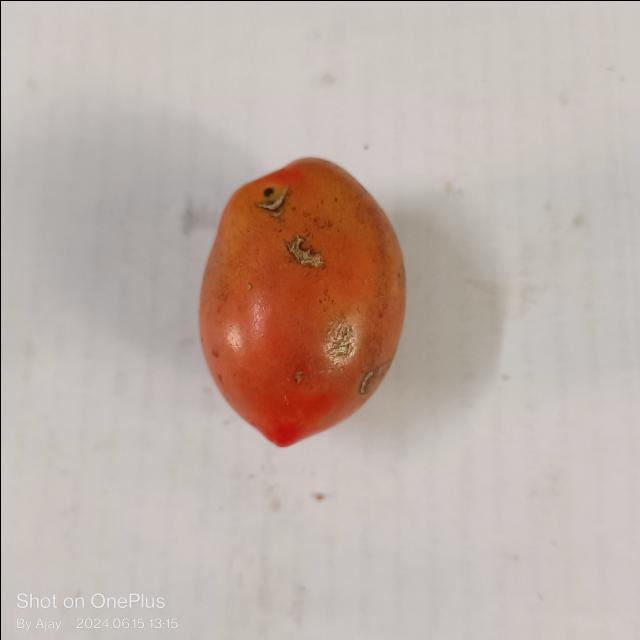Bacterial_Spot: (282, 232, 328, 268), (323, 320, 353, 368), (260, 183, 290, 213), (292, 369, 302, 381)
